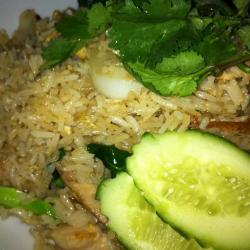rice: (1, 51, 131, 174)
salad: (73, 5, 247, 71)
